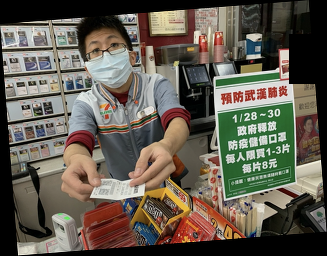with_mask: (84, 33, 135, 90)
